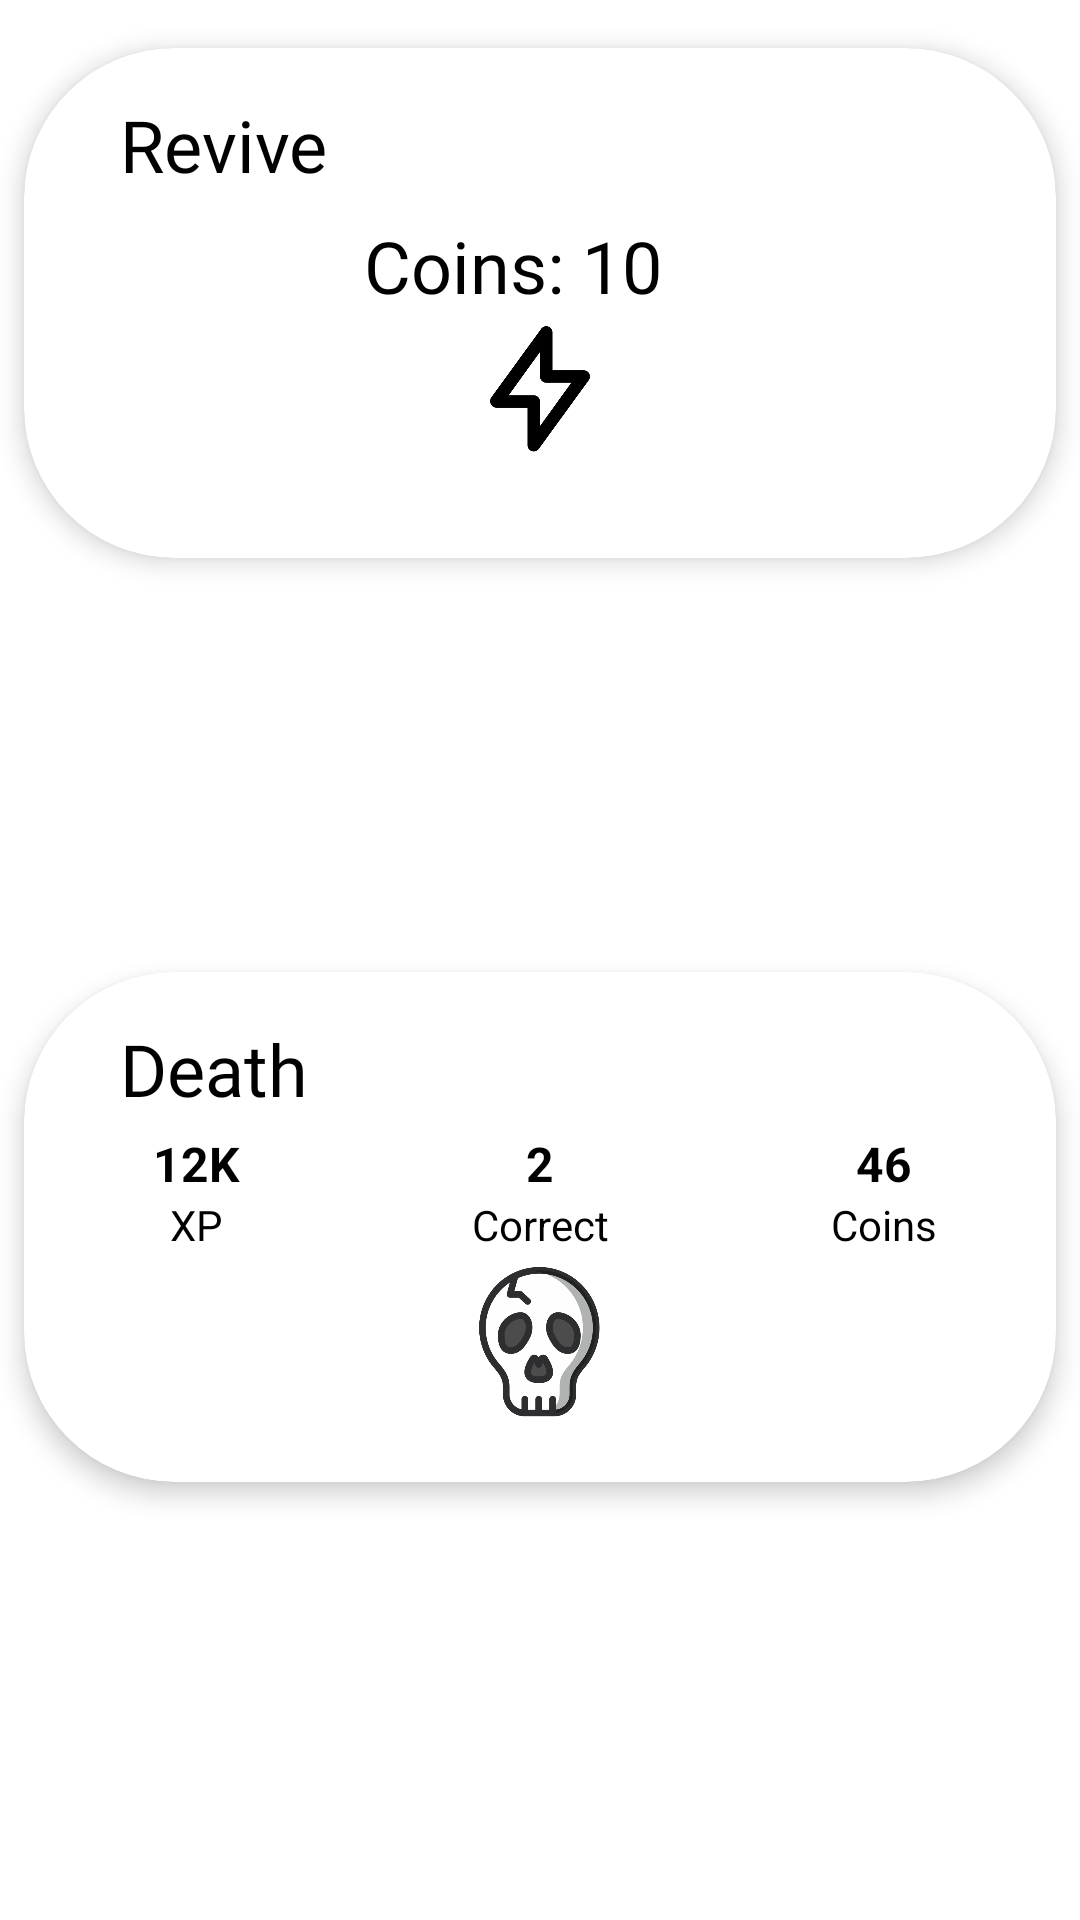

Icons on this 1080 × 1920 Android screen, each with the point to tap as point (x, y):
bolt: point (540, 389)
skull: point (539, 1342)
